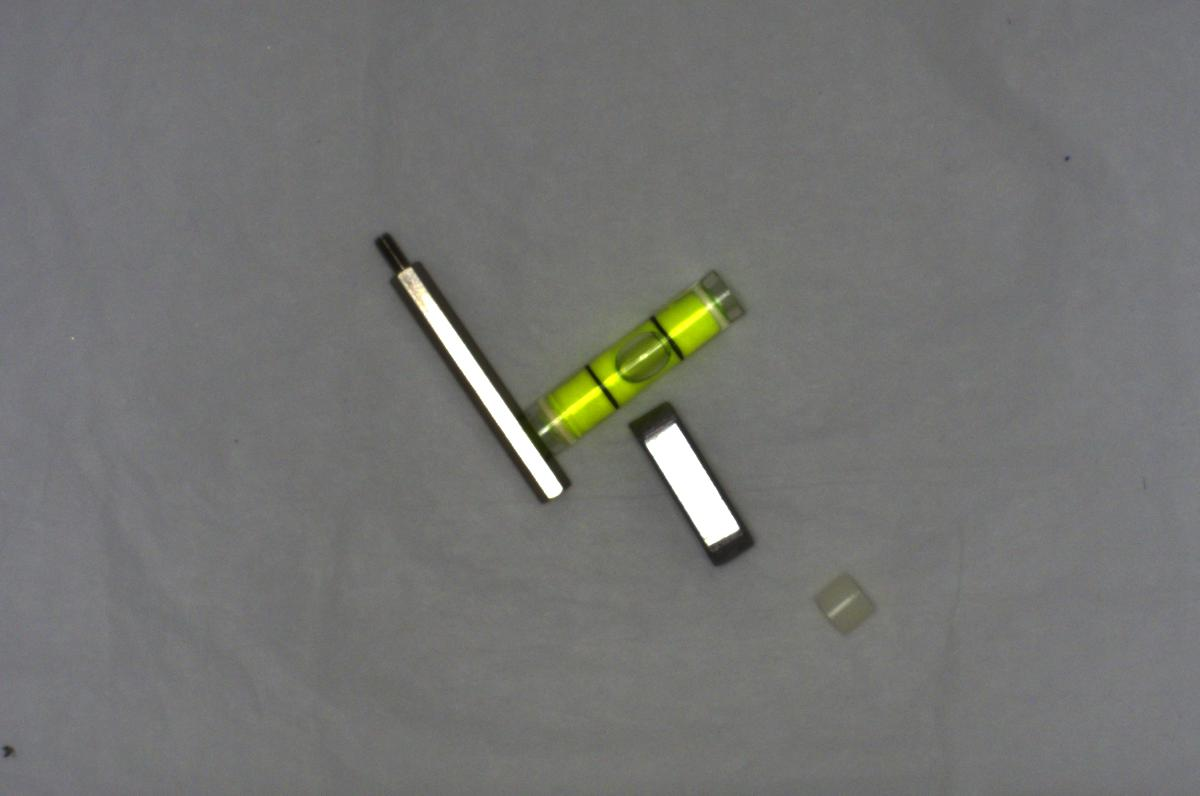Hexagonal steel column: (365, 227, 572, 518)
Horizontal bubble: (522, 270, 757, 453)
Keybar: (634, 399, 759, 572)
Plastic cushion pillar: (811, 566, 879, 643)
